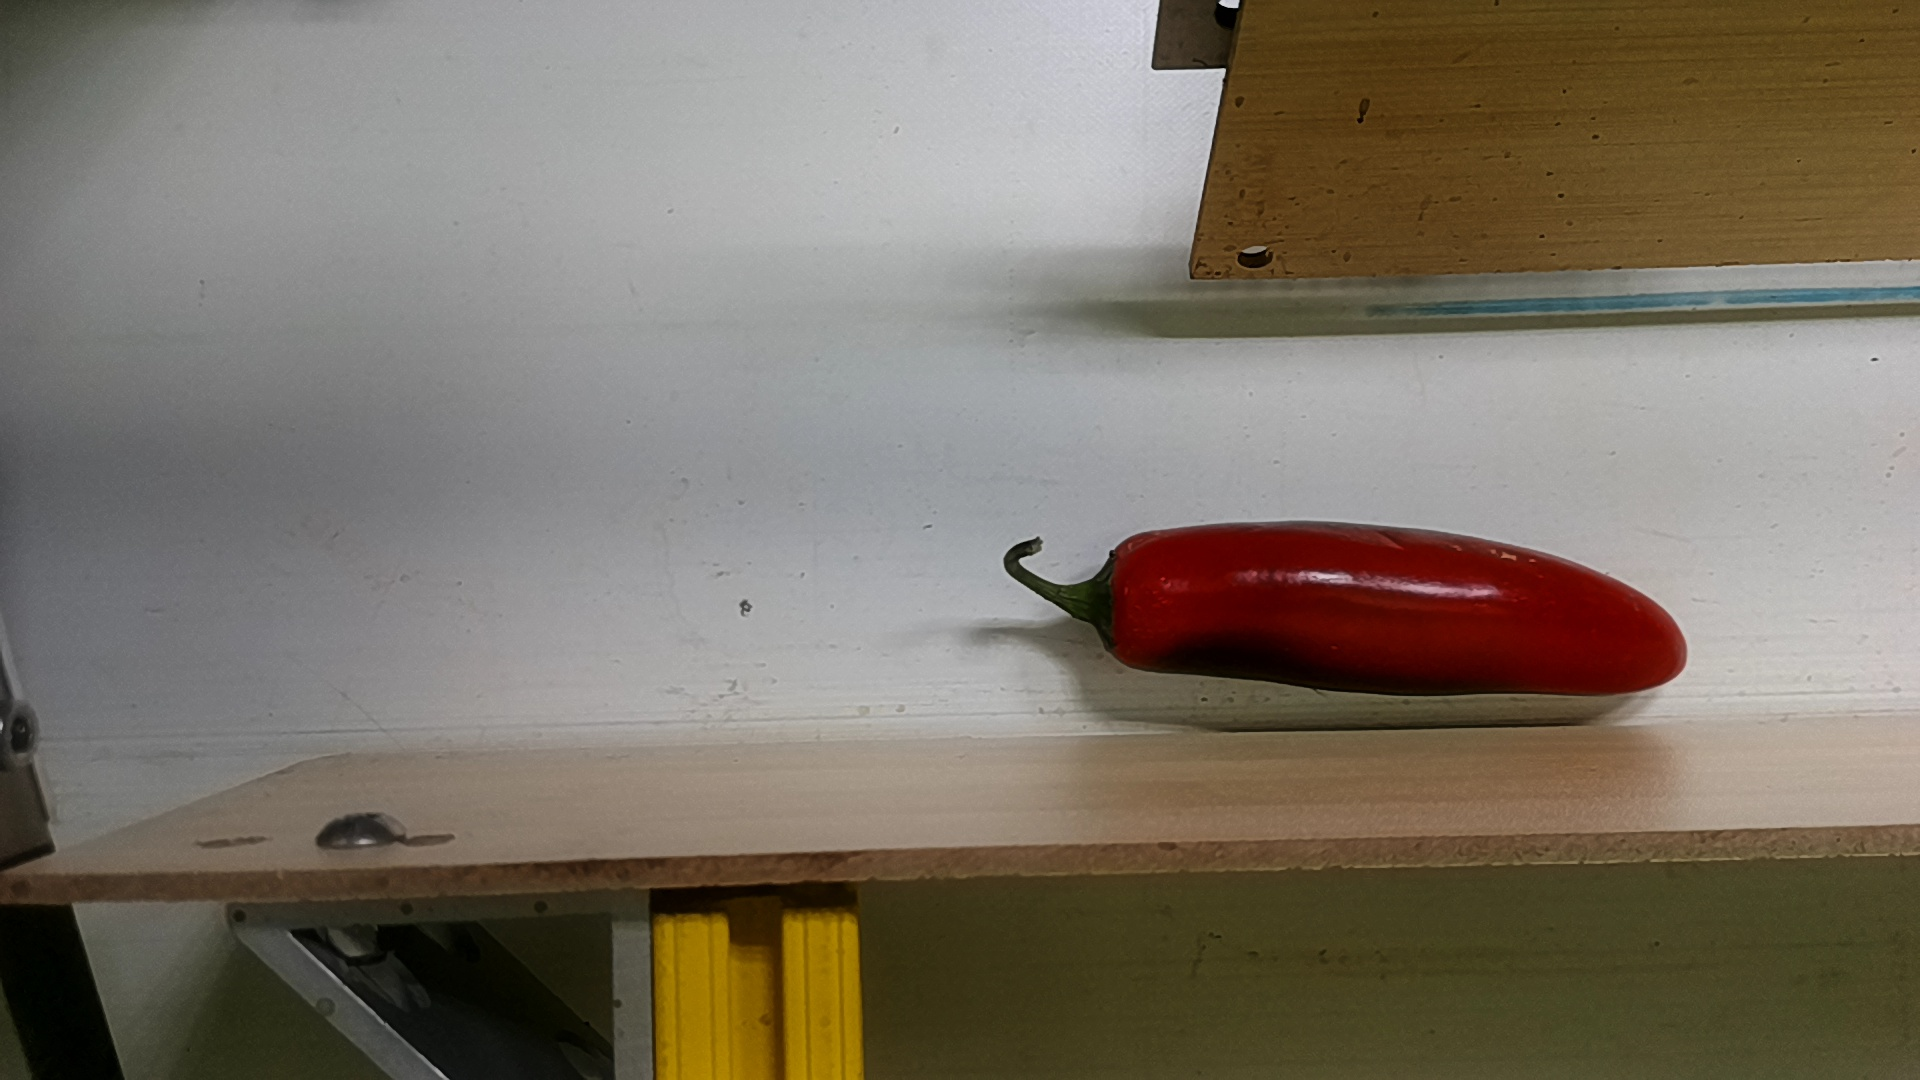Cut Point: (1079, 525, 1160, 679)
